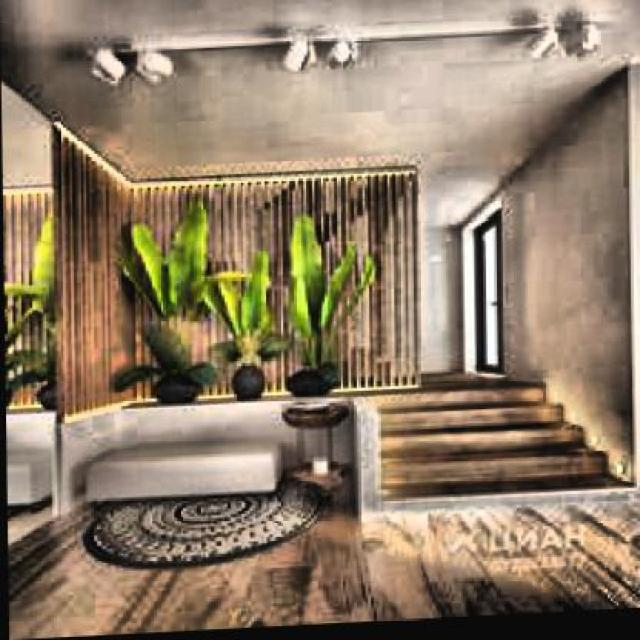stair: (343, 360, 625, 535)
